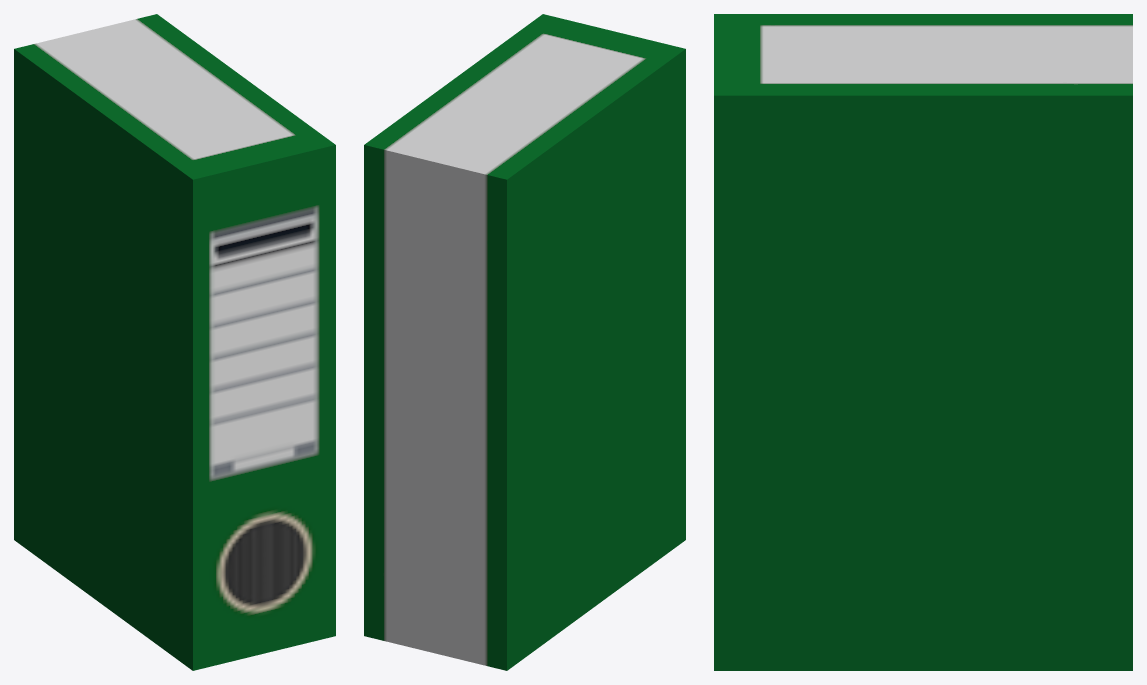
3 views of the same model, side by side, from view 1: azimuth 30°, elevation 25°; view 2: azimuth 150°, elevation 25°; view 3: azimuth 270°, elevation 25° (orthographic). The views are drawn at different scales.
Parts seen in each view (by area): view 1: file4; view 2: file4; view 3: file4.
Boxes of the visible parts, x1=… form: file4: x1=14, y1=14, x2=335, y2=670; file4: x1=364, y1=14, x2=685, y2=670; file4: x1=714, y1=14, x2=1132, y2=670.
Bounding box in the file's own units: 3.38 × 7.32 × 11.1.
